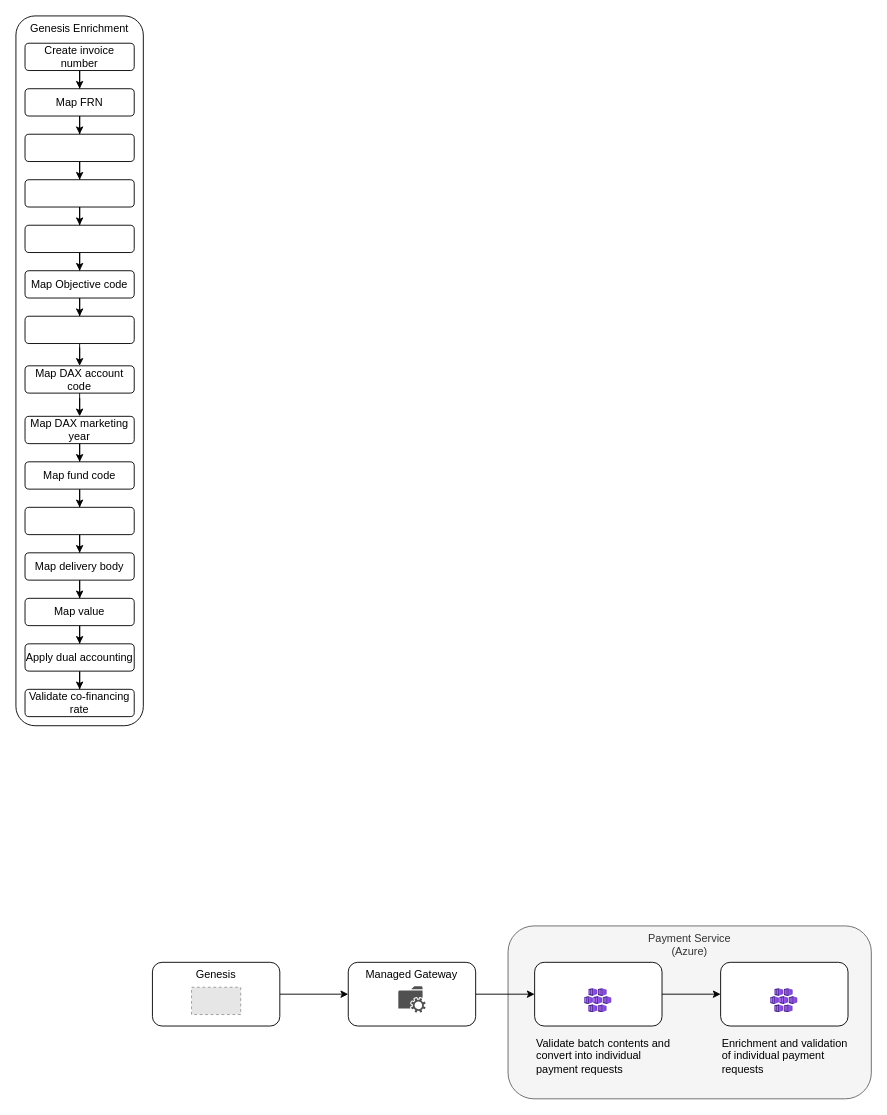
This 887x1115 diagram has some shape labels left out. Grey dashed boxes stand in for pictures. Each missing label, with the box of its shape:
Batch Processor: (534, 961, 662, 1026)
Enrichment: (720, 961, 848, 1026)
Map company code: (24, 179, 134, 207)
Map Oregon account code: (24, 224, 134, 253)
Map Oregon marketing year: (24, 315, 134, 344)
Map scheme code: (24, 506, 134, 535)
Split lines by company codes: (24, 133, 134, 162)
